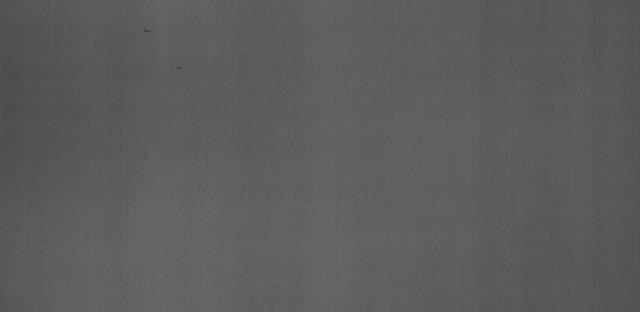inclusion: (168, 58, 190, 78), (140, 23, 159, 36)
